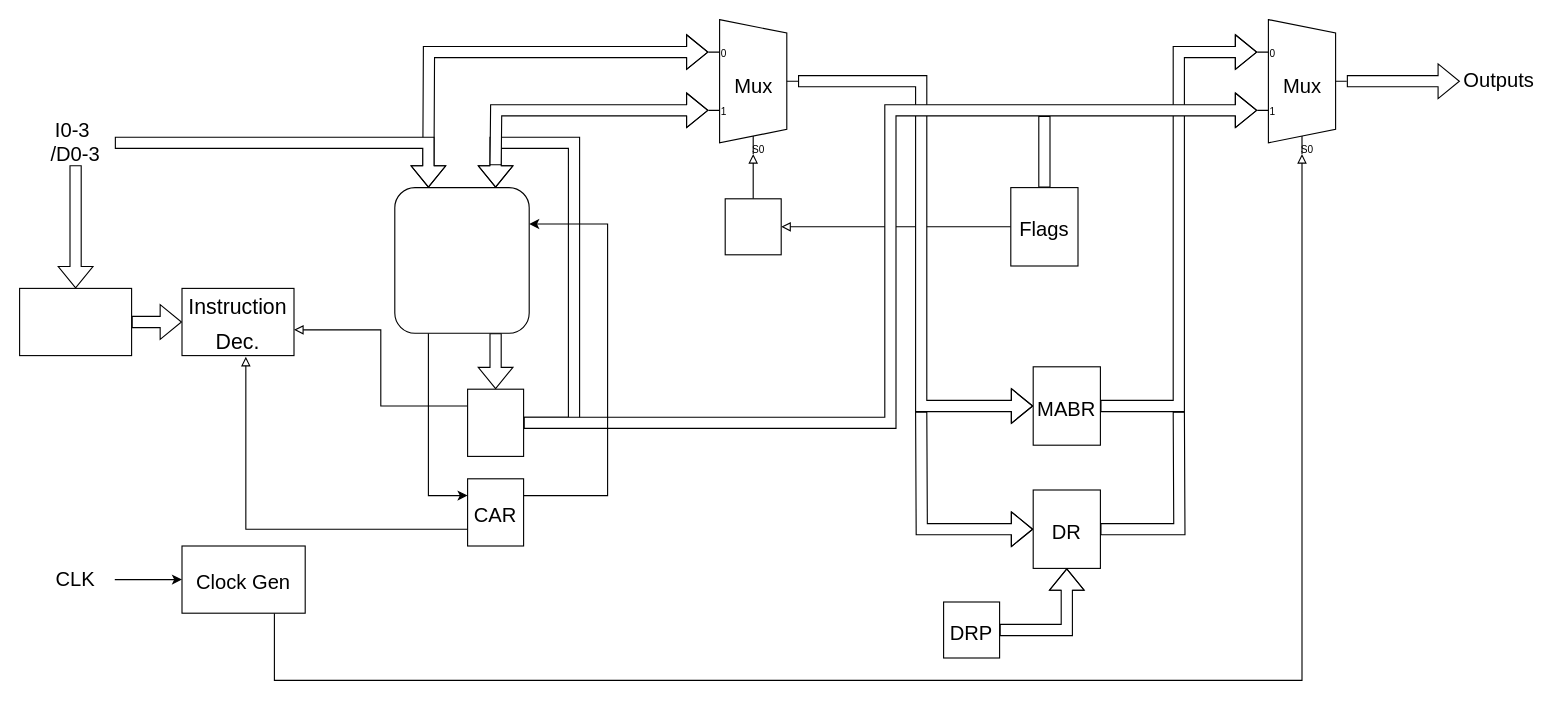
Some shapes in this 1558 by 709 pixel diagram are drawn without their labels. Here are the shapes that lost their labels. From the top down, the centre of each, then its label:
the point at 752,226: F_I
the point at 461,259: ALU
the point at 75,321: Instruction Reg.
the point at 495,422: RR
